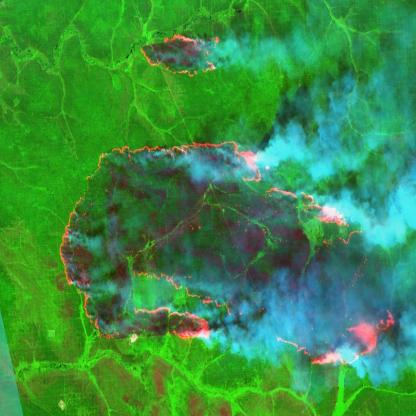fire: (55, 133, 398, 372), (135, 27, 225, 81)
